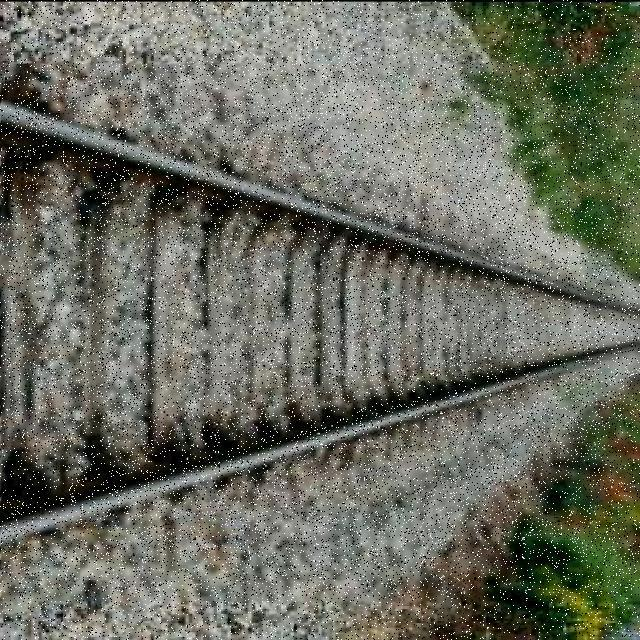rail: (1, 63, 639, 599)
